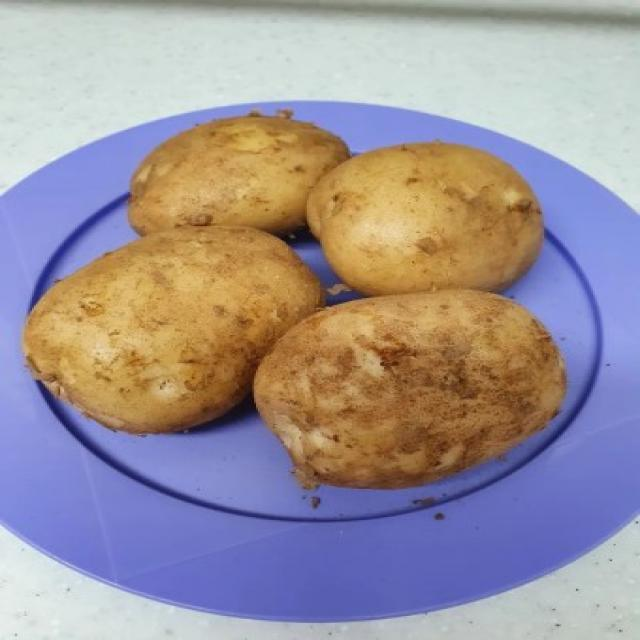potato: (248, 290, 572, 490), (26, 220, 314, 432), (304, 142, 546, 302), (123, 110, 353, 250)
